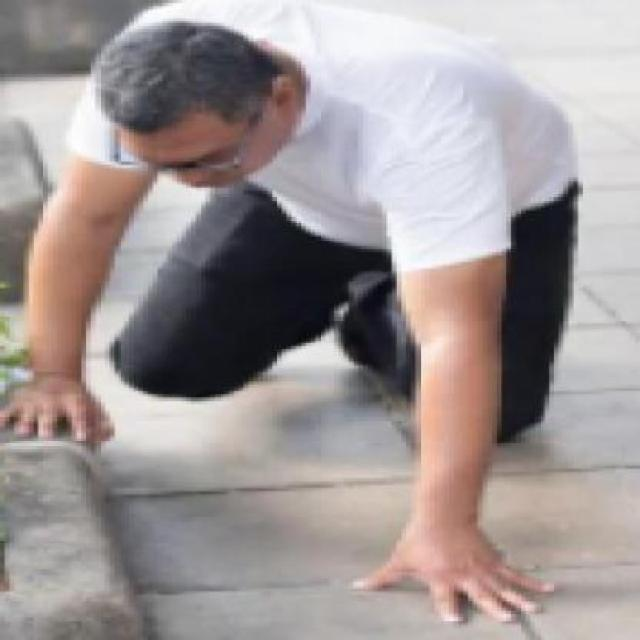fall: (15, 0, 583, 620)
